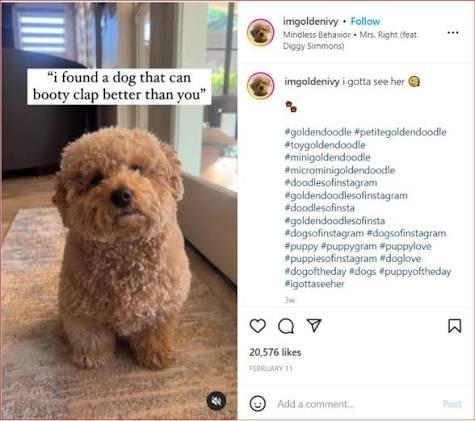adult_dog: (49, 128, 193, 373)
